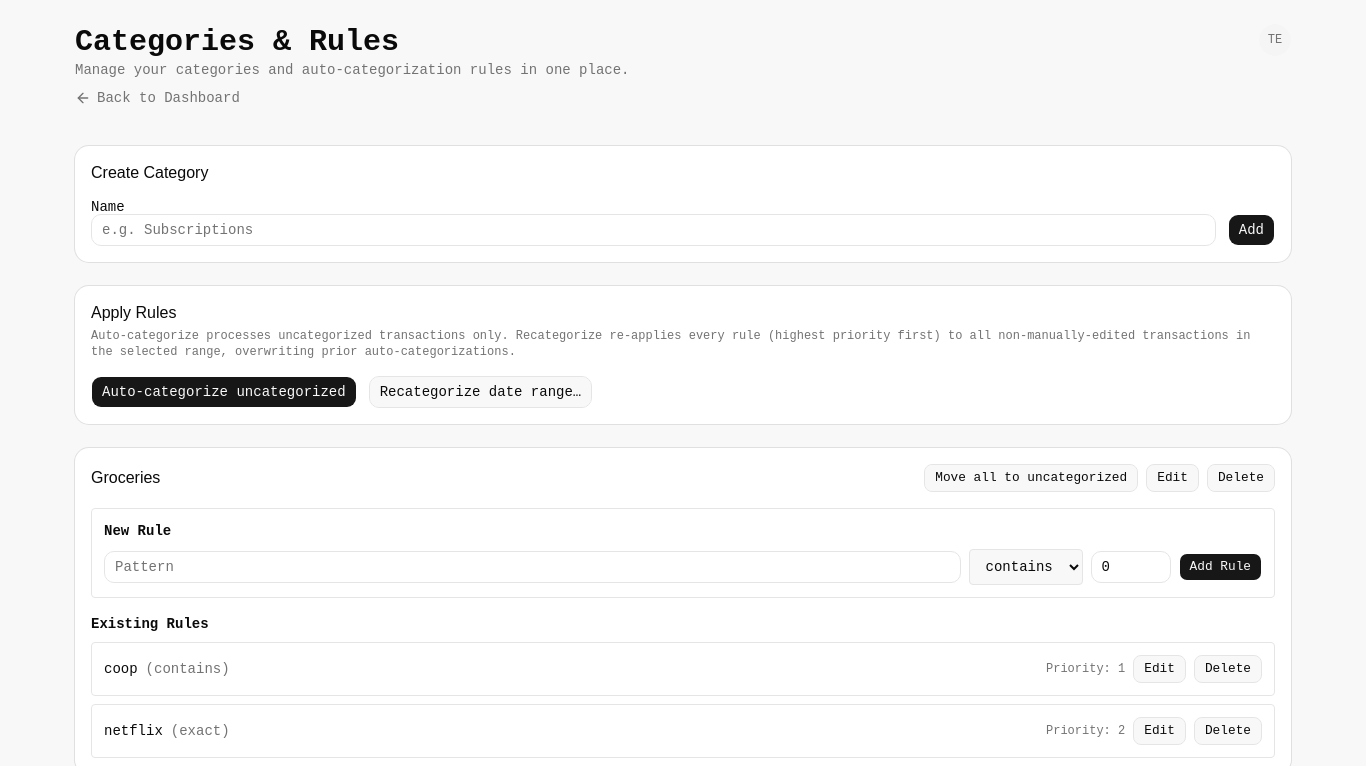
Test: CategoriesPage › shows inline preview error for invalid live preview requests
expect the heading "Groceries" is shown: met, box [91,466,160,490]
Type "x" into the field named "New rule pattern for Groceries" at (532, 567), box [104,551,961,583]
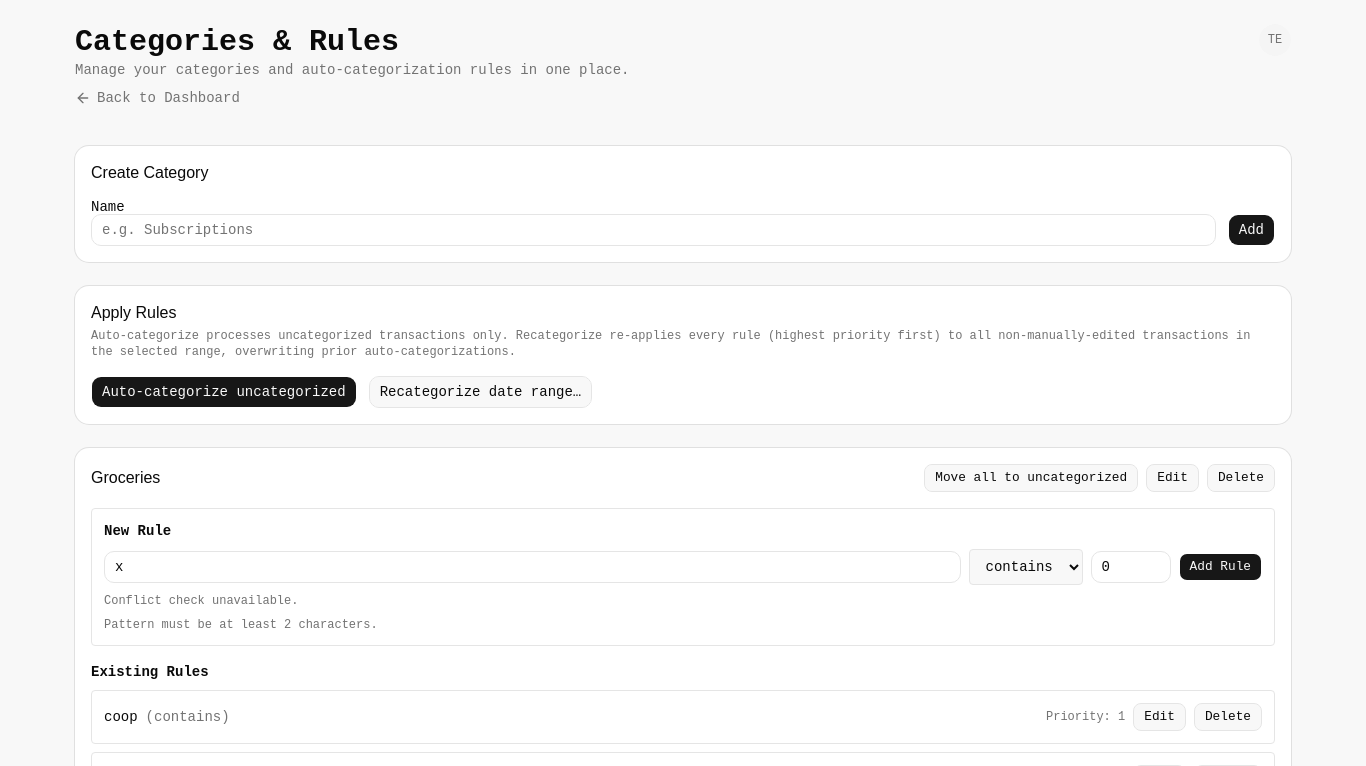
expect the text "Groceries" is shown: met, box [91,469,160,486]
expect the text "Pattern must be at least 2 characters." is shown: met, box [104,618,378,632]
